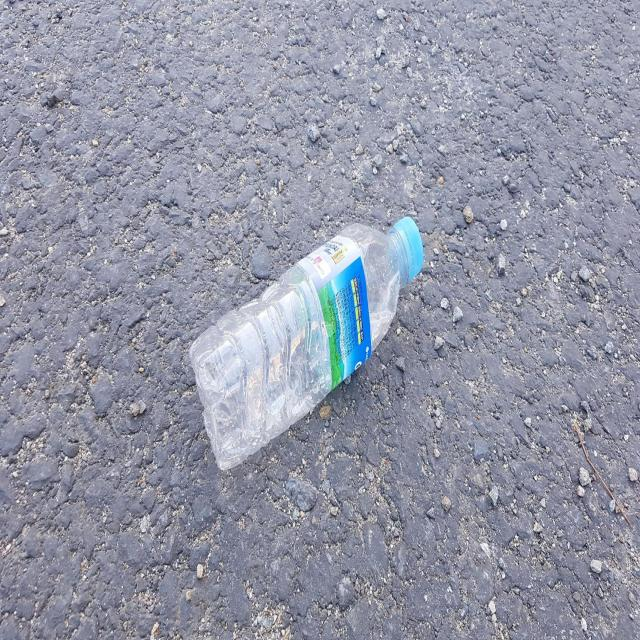plastic: (190, 216, 424, 469)
